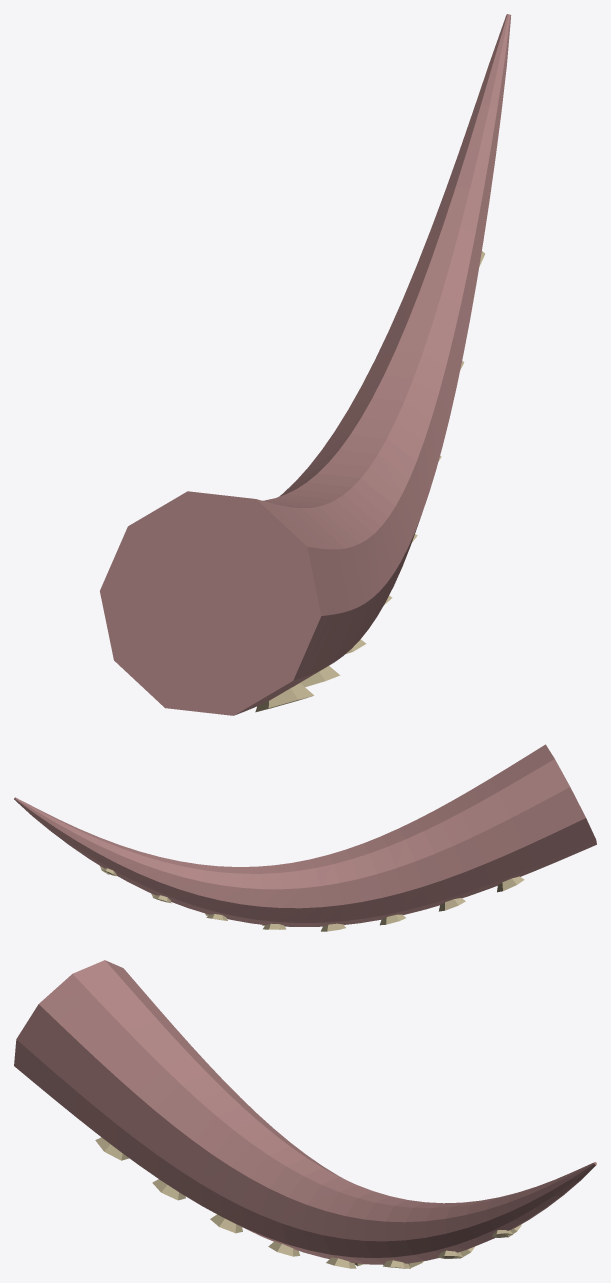
Rendered from kraken_arm_3_01.glb.
The picture shows the model from 3 angles, top to bottom: view 1: azimuth 30°, elevation 25°; view 2: azimuth 150°, elevation 25°; view 3: azimuth 270°, elevation 25°; orthographic projection. The views are drawn at different scales.
Visible parts, largest first — view 1: Arm3; view 2: Arm3; view 3: Arm3.
Part boxes in pixels (left/top/right/bottom): Arm3: left=100, top=14, right=511, bottom=715; Arm3: left=14, top=744, right=596, bottom=926; Arm3: left=14, top=960, right=596, bottom=1264.
Size of the model in its own units: 0.8998 by 0.366 by 0.8998.
